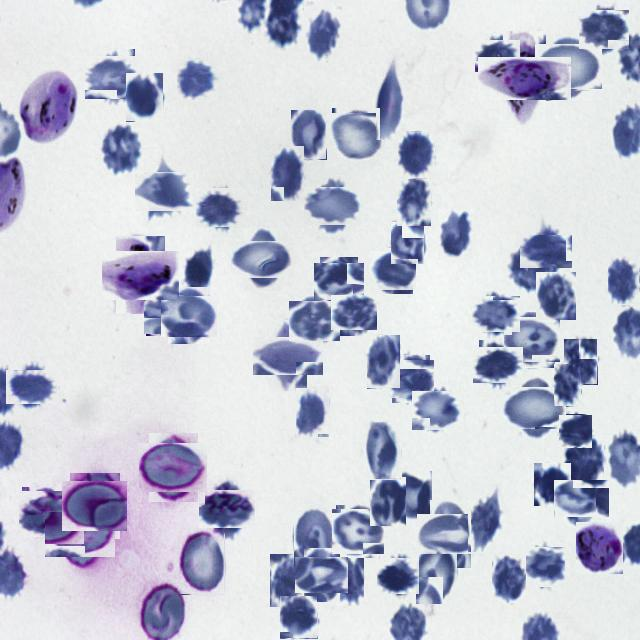difficult: (491, 44, 558, 112), (20, 72, 77, 145)
red blood cell: (144, 438, 203, 497), (540, 38, 598, 96), (51, 506, 109, 564), (66, 477, 124, 535), (423, 506, 478, 562), (179, 530, 225, 595), (508, 381, 562, 435), (261, 328, 315, 382), (330, 110, 382, 163), (416, 541, 458, 605), (507, 314, 558, 366), (238, 234, 288, 285), (88, 52, 138, 102), (20, 488, 70, 538), (164, 290, 214, 340), (294, 504, 332, 568), (334, 507, 383, 556), (203, 484, 251, 532), (308, 182, 356, 230), (140, 168, 188, 216), (100, 123, 144, 174), (376, 58, 403, 140), (468, 491, 503, 552), (415, 388, 461, 434), (292, 298, 338, 344), (558, 475, 604, 521), (508, 246, 552, 294), (304, 6, 342, 61), (366, 422, 402, 480), (391, 471, 432, 521), (581, 8, 627, 52), (300, 552, 344, 598), (198, 186, 243, 230), (317, 260, 361, 304), (524, 230, 568, 274), (536, 272, 576, 320), (564, 435, 604, 483), (270, 554, 306, 607), (271, 146, 305, 202), (126, 73, 164, 122), (474, 293, 517, 336), (367, 334, 401, 388), (438, 209, 474, 260), (491, 554, 528, 603), (11, 366, 54, 408), (476, 344, 519, 386), (177, 59, 219, 102), (291, 110, 327, 160), (398, 131, 435, 179), (390, 358, 432, 400), (372, 250, 414, 292), (370, 477, 406, 526), (296, 388, 330, 438), (334, 292, 374, 334), (397, 179, 432, 227), (280, 596, 318, 639), (330, 558, 364, 606), (145, 294, 185, 334), (378, 556, 418, 596), (526, 547, 566, 587), (478, 36, 518, 76), (534, 463, 571, 506), (608, 256, 640, 305), (564, 339, 598, 385), (184, 248, 216, 296), (391, 222, 425, 265), (554, 364, 582, 407), (560, 414, 592, 448)
schizont: (109, 244, 172, 306)
trophozoite: (576, 522, 624, 575)
